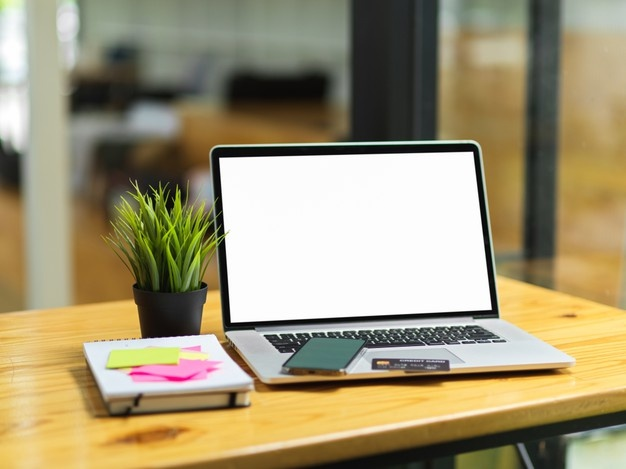Cell Phone: (282, 337, 365, 372)
